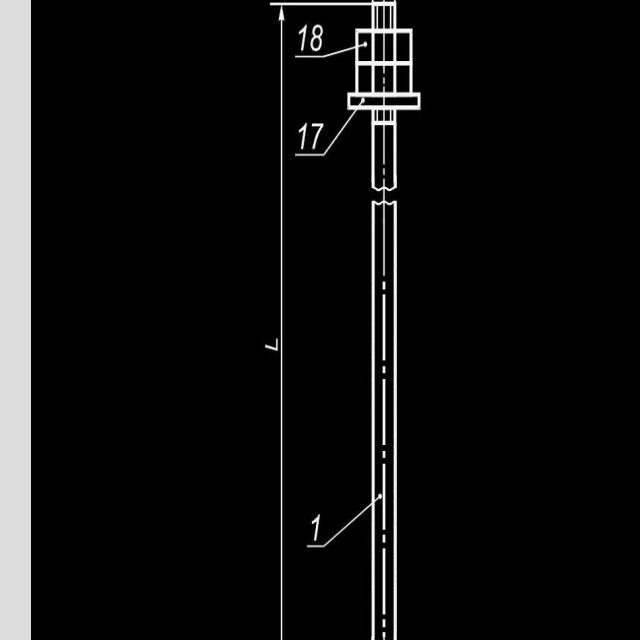marking_line: (268, 0, 344, 638), (267, 0, 353, 89)
numeric: (307, 119, 323, 152), (308, 508, 322, 543), (294, 25, 308, 54), (297, 118, 308, 150), (310, 24, 322, 53)
